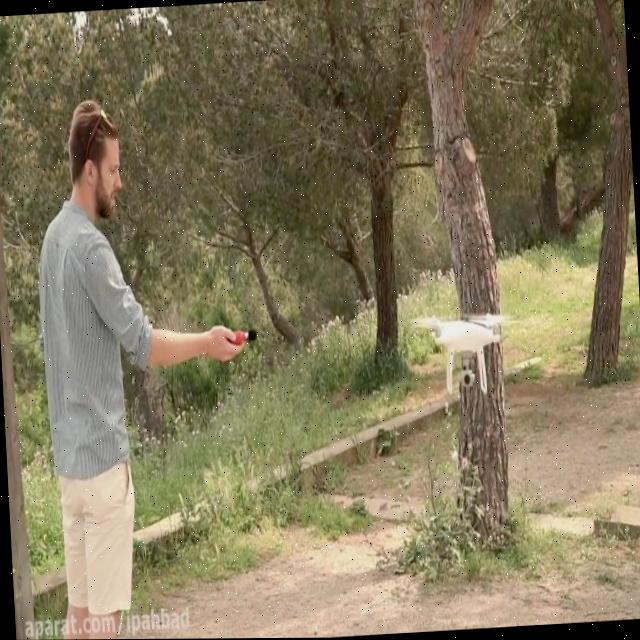drone: (411, 307, 522, 399)
